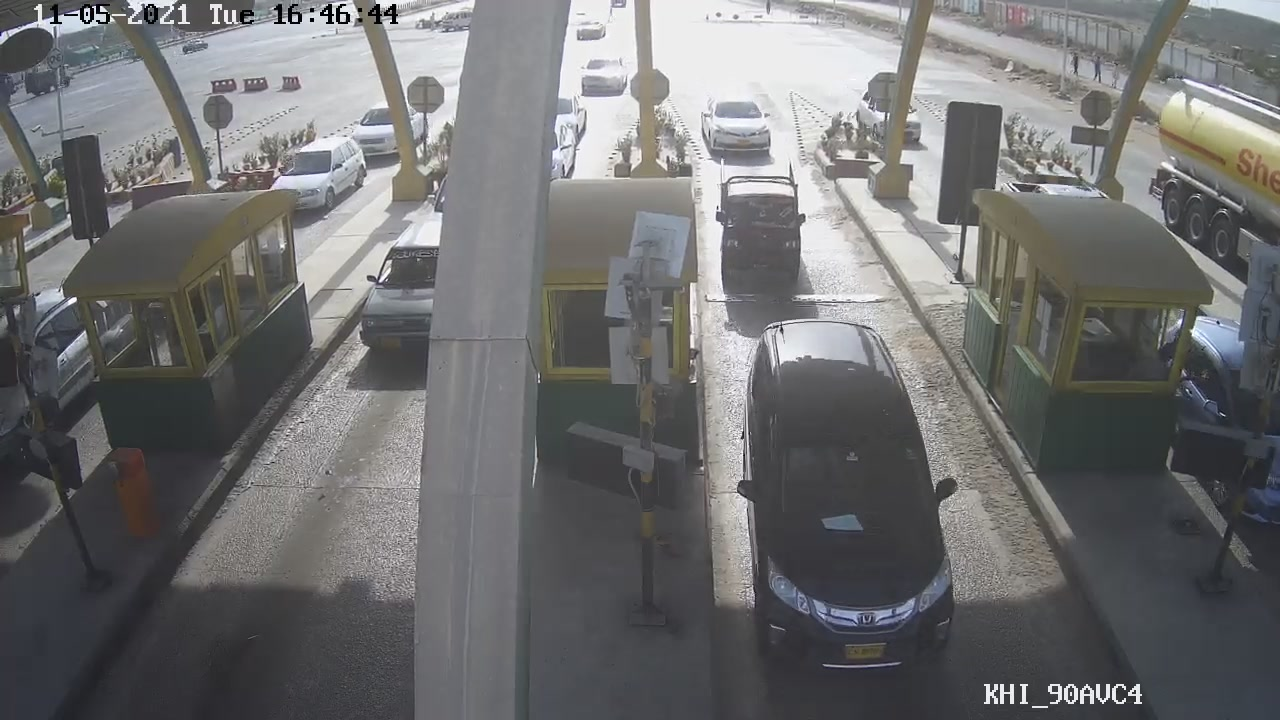F1: (727, 315, 967, 686), (714, 151, 809, 282)
